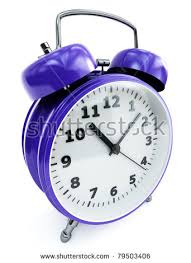alarm_clock: (20, 4, 172, 245)
